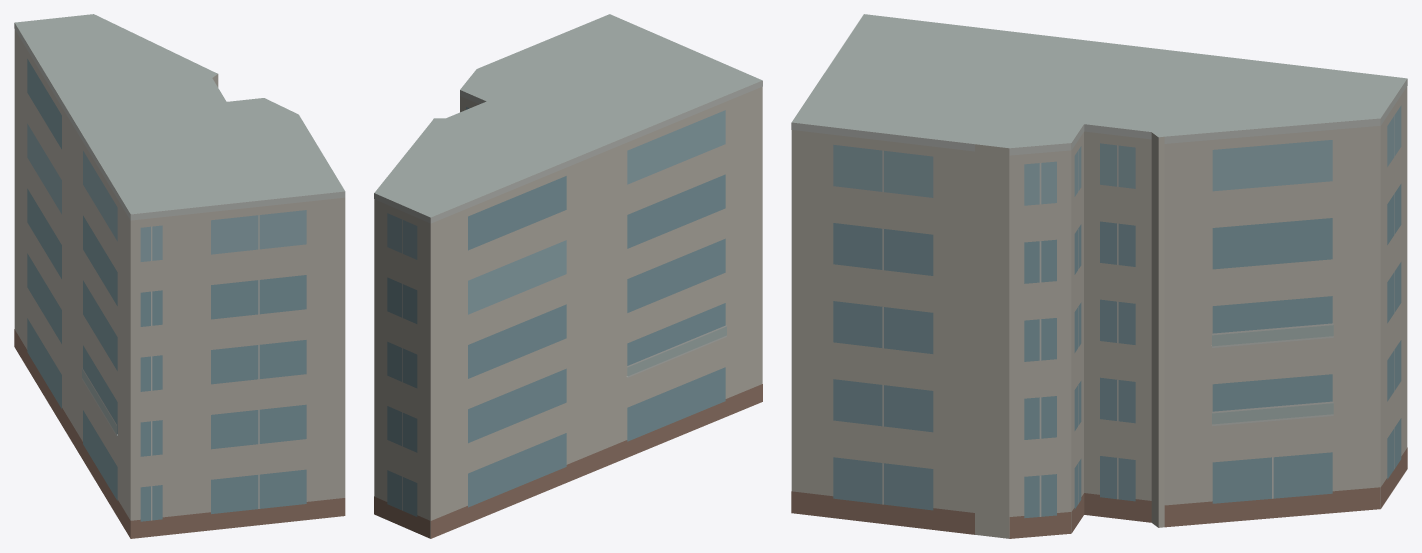
File: survey-upis-33012678.glb
3 renders of one model, left to right at view 1: azimuth 30°, elevation 25°; view 2: azimuth 150°, elevation 25°; view 3: azimuth 270°, elevation 25°, orthographic. The views are drawn at different scales.
Visible parts, largest first — view 1: survey-upis-33012678.tmp; view 2: survey-upis-33012678.tmp; view 3: survey-upis-33012678.tmp.
Part boxes in pixels (x1,y1,x2,y2): survey-upis-33012678.tmp: (14,14,345,538); survey-upis-33012678.tmp: (374,14,762,538); survey-upis-33012678.tmp: (791,14,1407,538).
Bounding box in the file's own units: 9.53 × 12.92 × 18.48.
